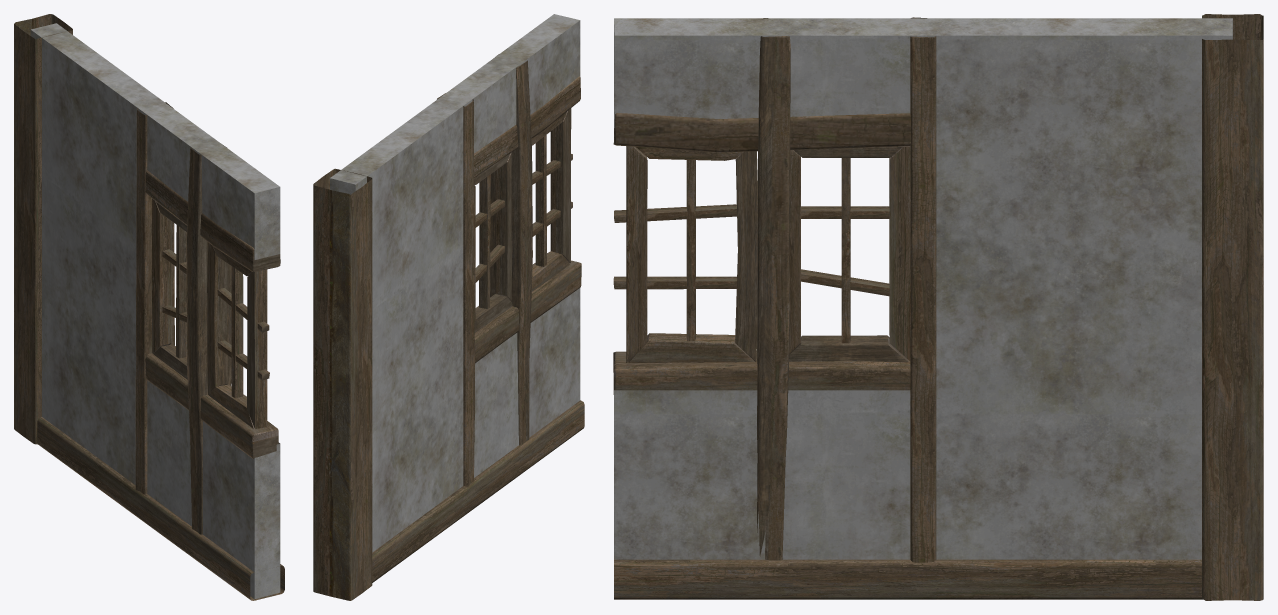
The model's file is SM_Wall36.fbx.
3 views of the same model, side by side, from view 1: azimuth 30°, elevation 25°; view 2: azimuth 150°, elevation 25°; view 3: azimuth 270°, elevation 25° (orthographic). The views are drawn at different scales.
Parts seen in each view (by area): view 1: SM_Wall36_LOD0; view 2: SM_Wall36_LOD0; view 3: SM_Wall36_LOD0.
Part boxes in pixels (left/top/right/bottom): SM_Wall36_LOD0: left=14, top=14, right=284, bottom=600; SM_Wall36_LOD0: left=313, top=14, right=584, bottom=600; SM_Wall36_LOD0: left=613, top=14, right=1263, bottom=600.
Bounding box in the file's own units: 30 × 315 × 301.
